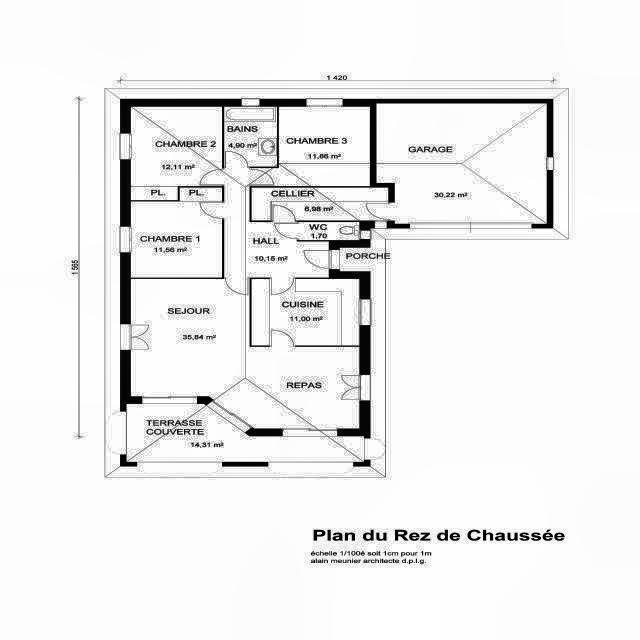room: (131, 279, 359, 429), (377, 103, 547, 224), (224, 168, 329, 278), (252, 106, 370, 186), (131, 107, 222, 200), (131, 187, 222, 277), (252, 279, 359, 345), (252, 187, 388, 220), (224, 107, 277, 167), (299, 222, 359, 240)
